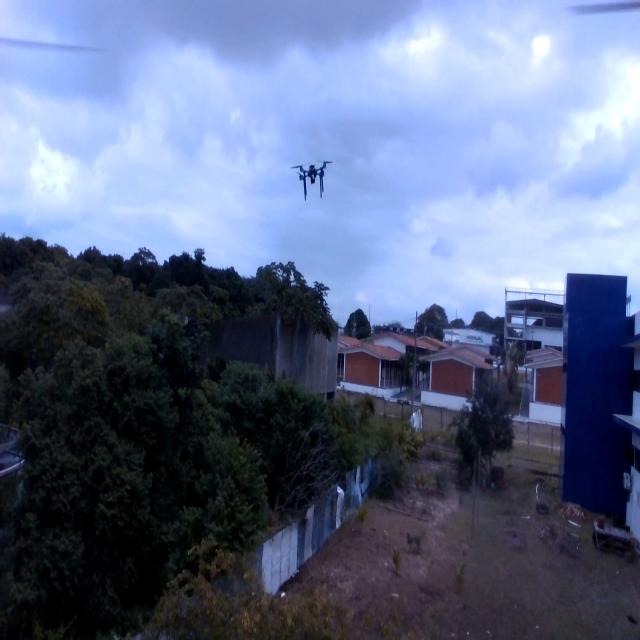-uav-: (283, 152, 339, 209)
